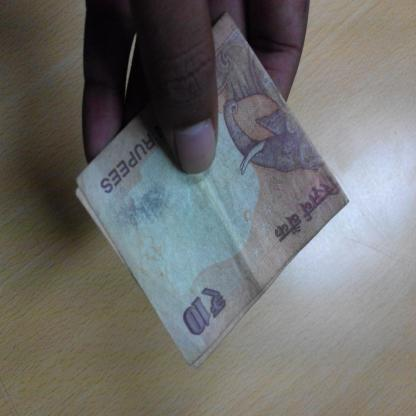Old10Back: (75, 11, 350, 370)
